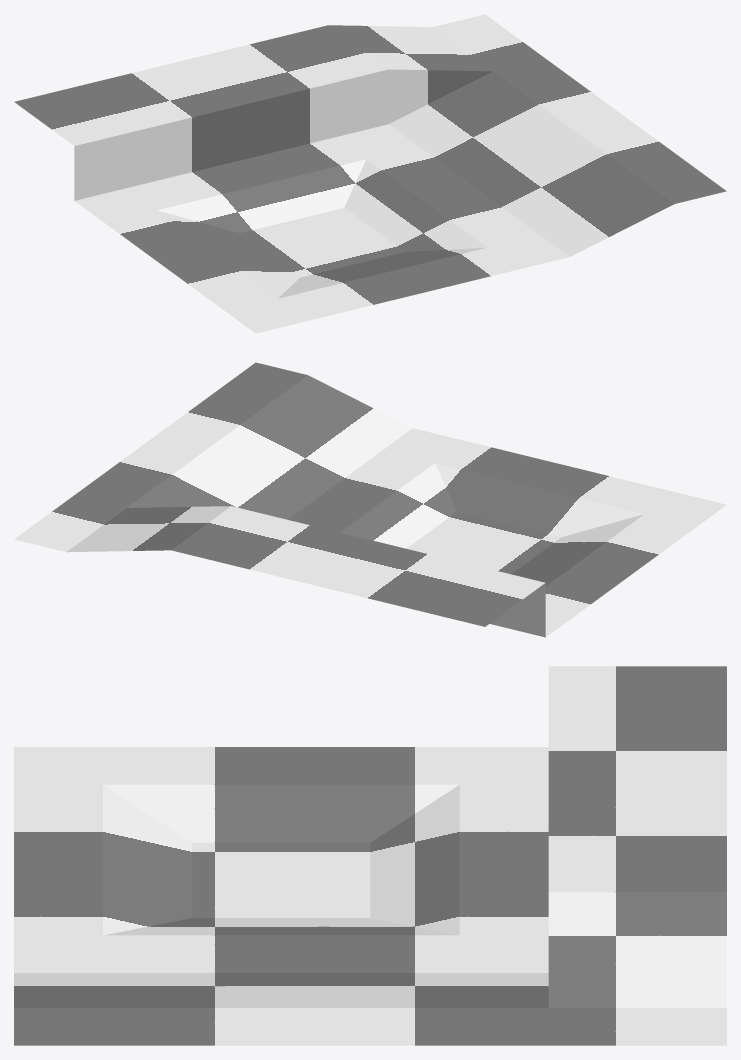
File: test_world.obj
3 views of the same model, one above another, from view 1: azimuth 30°, elevation 25°; view 2: azimuth 150°, elevation 25°; view 3: azimuth 270°, elevation 25° (orthographic). The views are drawn at different scales.
Parts seen in each view (by area): view 1: Plane; view 2: Plane; view 3: Plane.
Boxes of the visible parts, x1,y1,x2,y2 form: Plane: (14, 14, 726, 333); Plane: (14, 362, 726, 637); Plane: (14, 666, 726, 1045).
Size of the model in its own units: 36 by 5 by 32.
1 material, 1 textured.
